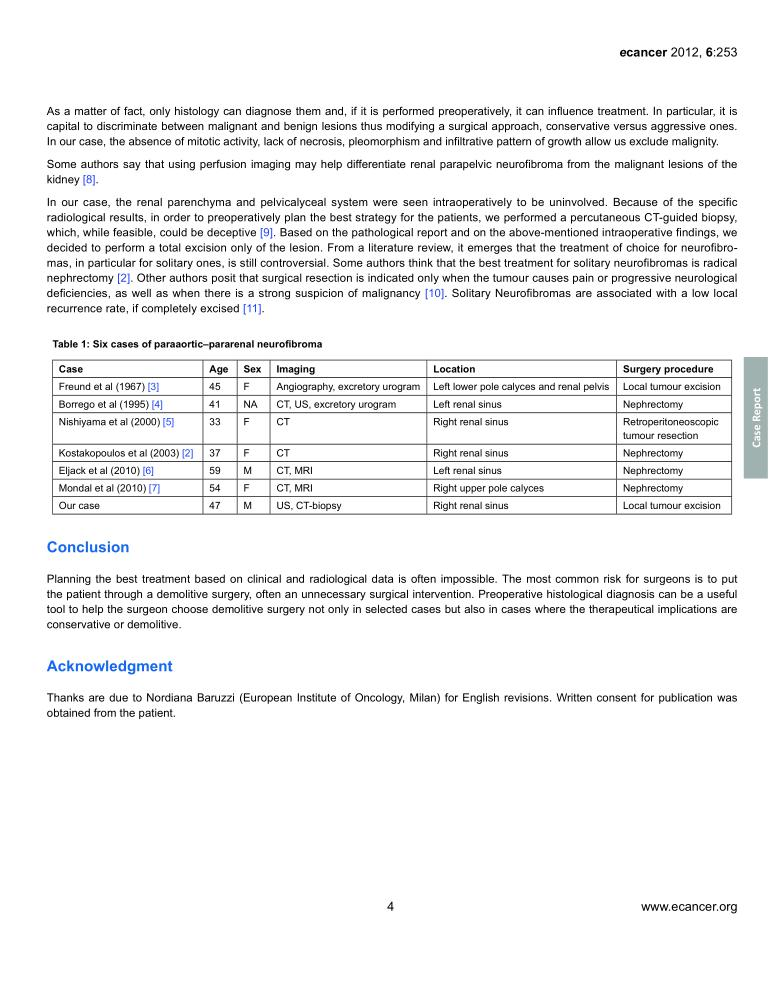table: (58, 363, 720, 511)
